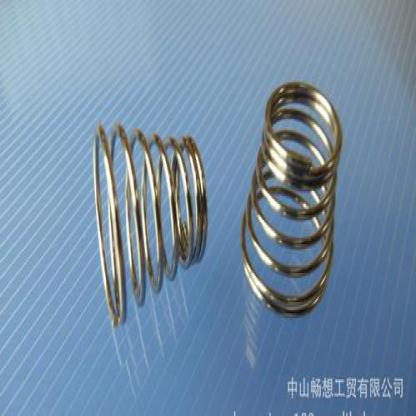FOD: (90, 122, 212, 334), (237, 80, 343, 317)
